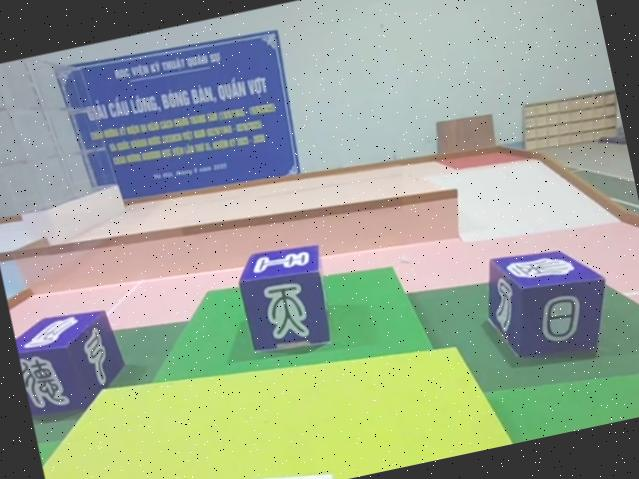R2 Fake Blue: (479, 236, 623, 377), (11, 302, 132, 422), (230, 239, 339, 362)
